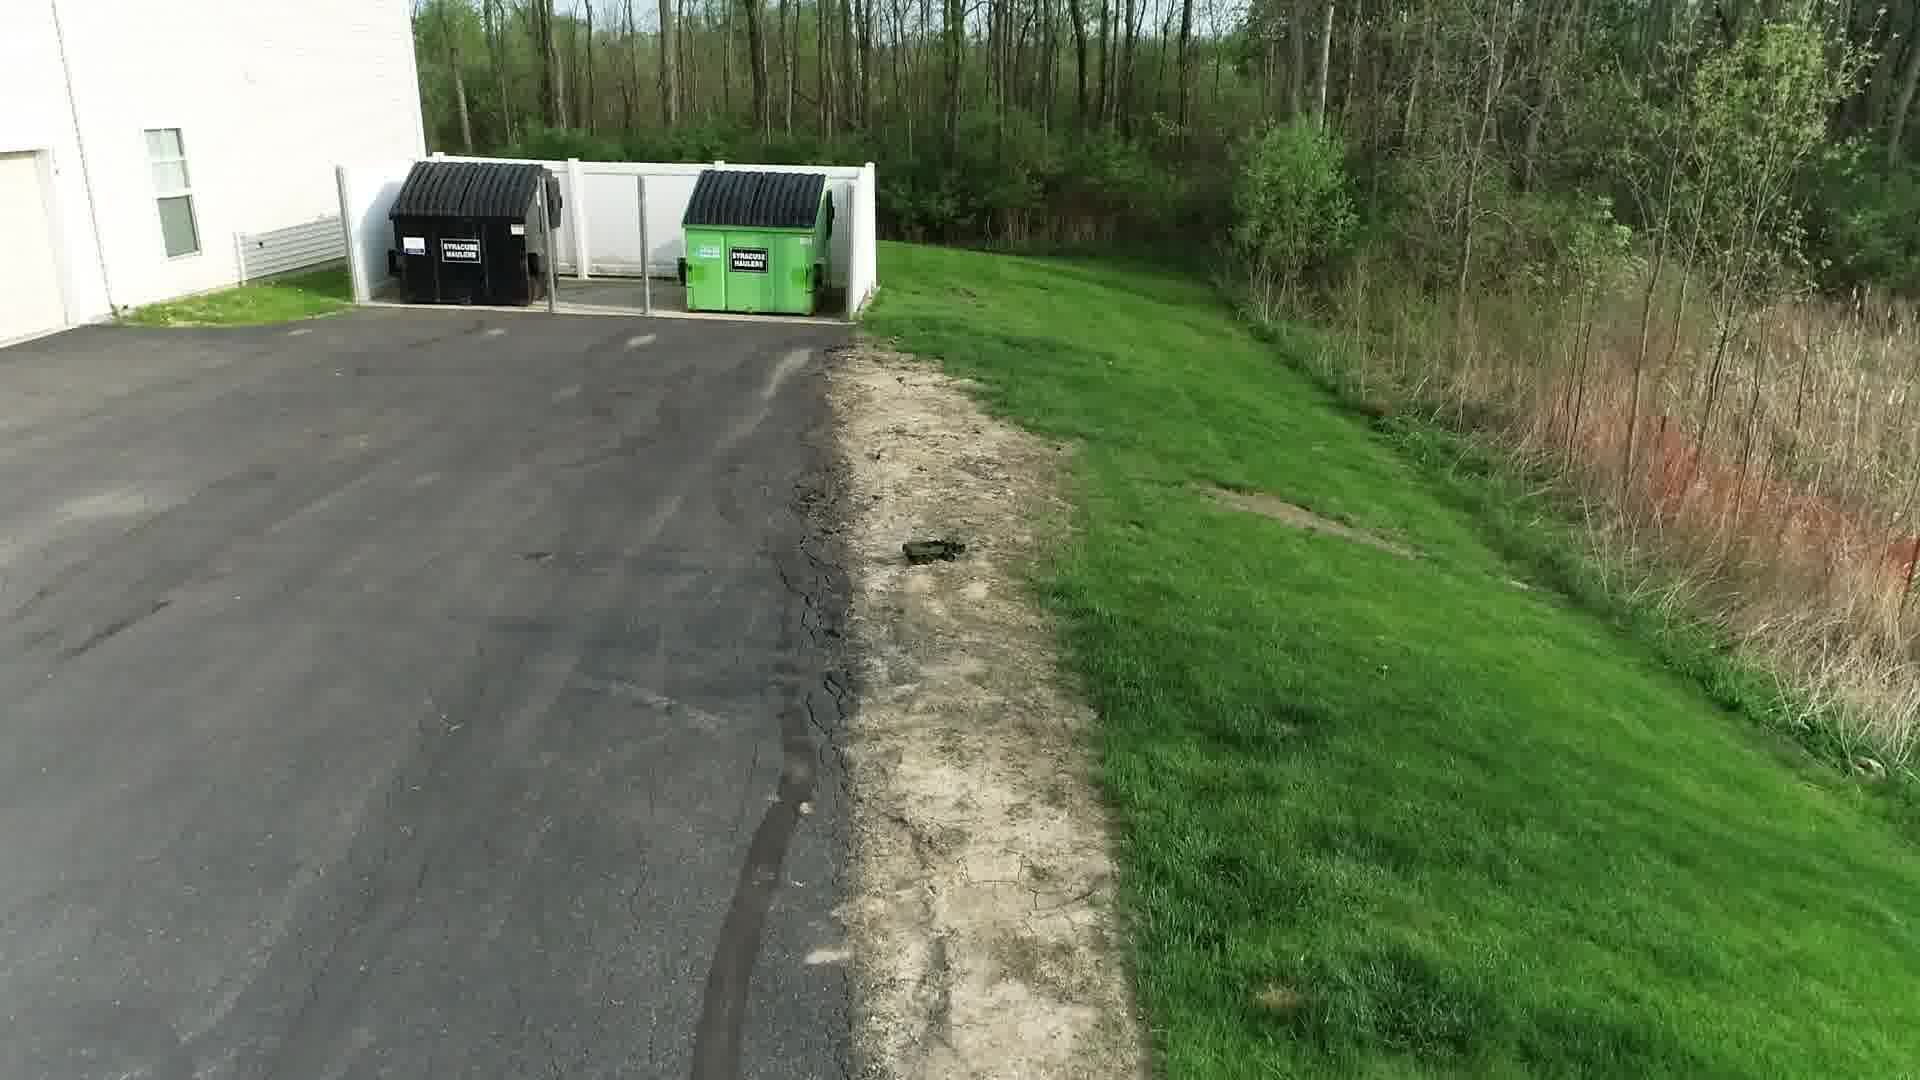transporter9: (899, 535, 967, 564)
